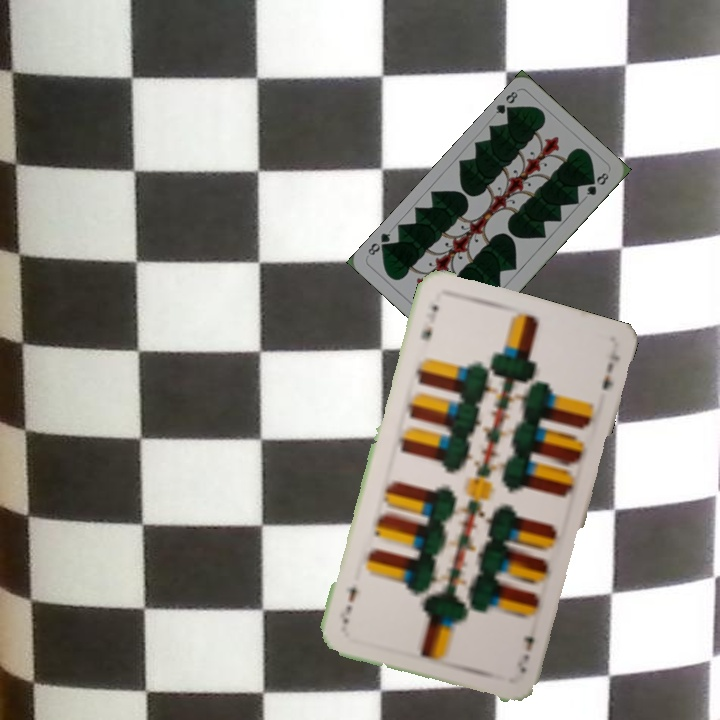E7: (416, 300, 441, 343), (512, 632, 536, 676)
G8: (491, 87, 520, 119)
